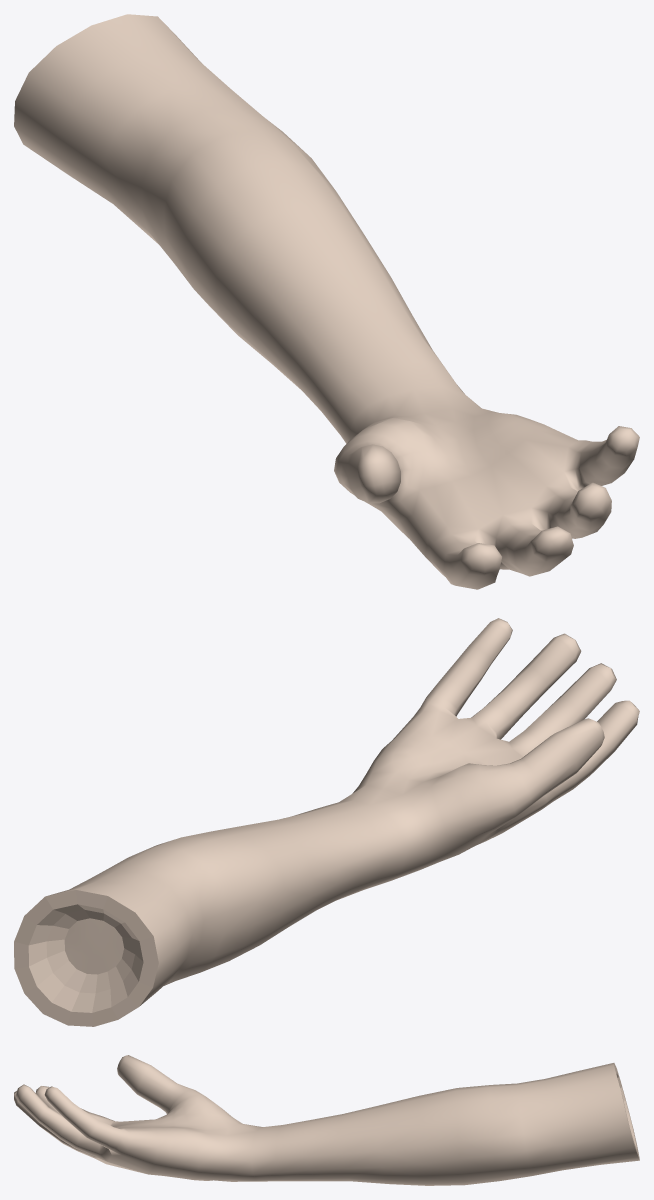
The model's file is sm_arm_low.fbx.
3 renders of one model, top to bottom at view 1: azimuth 30°, elevation 25°; view 2: azimuth 150°, elevation 25°; view 3: azimuth 270°, elevation 25°, orthographic. The views are drawn at different scales.
Parts seen in each view (by area): view 1: polySurface3; view 2: polySurface3; view 3: polySurface3.
Boxes of the visible parts, bbox=[...] form: polySurface3: bbox=[14, 14, 639, 589]; polySurface3: bbox=[14, 618, 639, 1026]; polySurface3: bbox=[14, 1055, 639, 1185].
Size of the model in its own units: 168 by 116 by 558.
